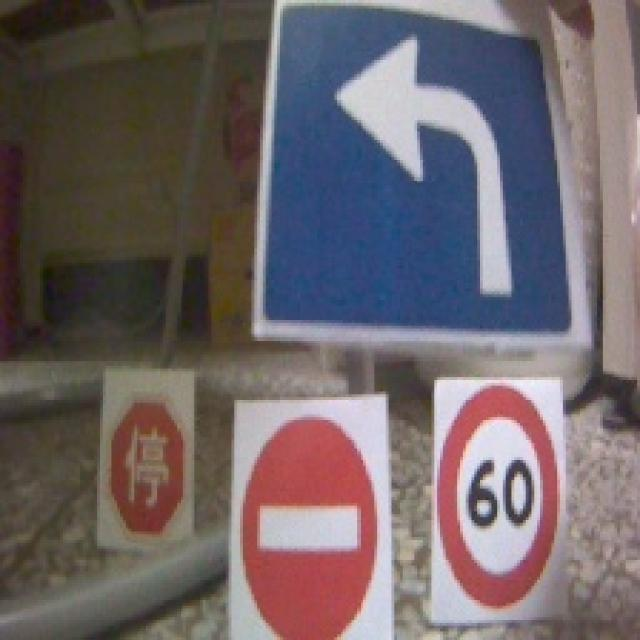DoNotEnterSign: (236, 415, 380, 640)
